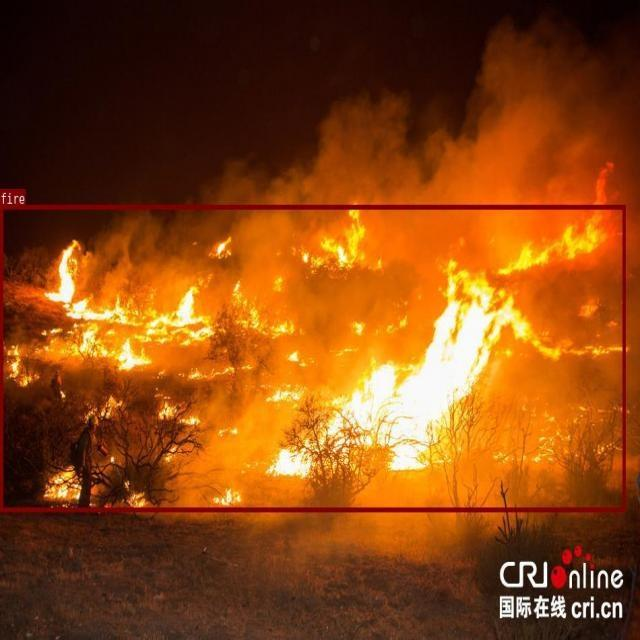fire: (0, 204, 625, 511)
